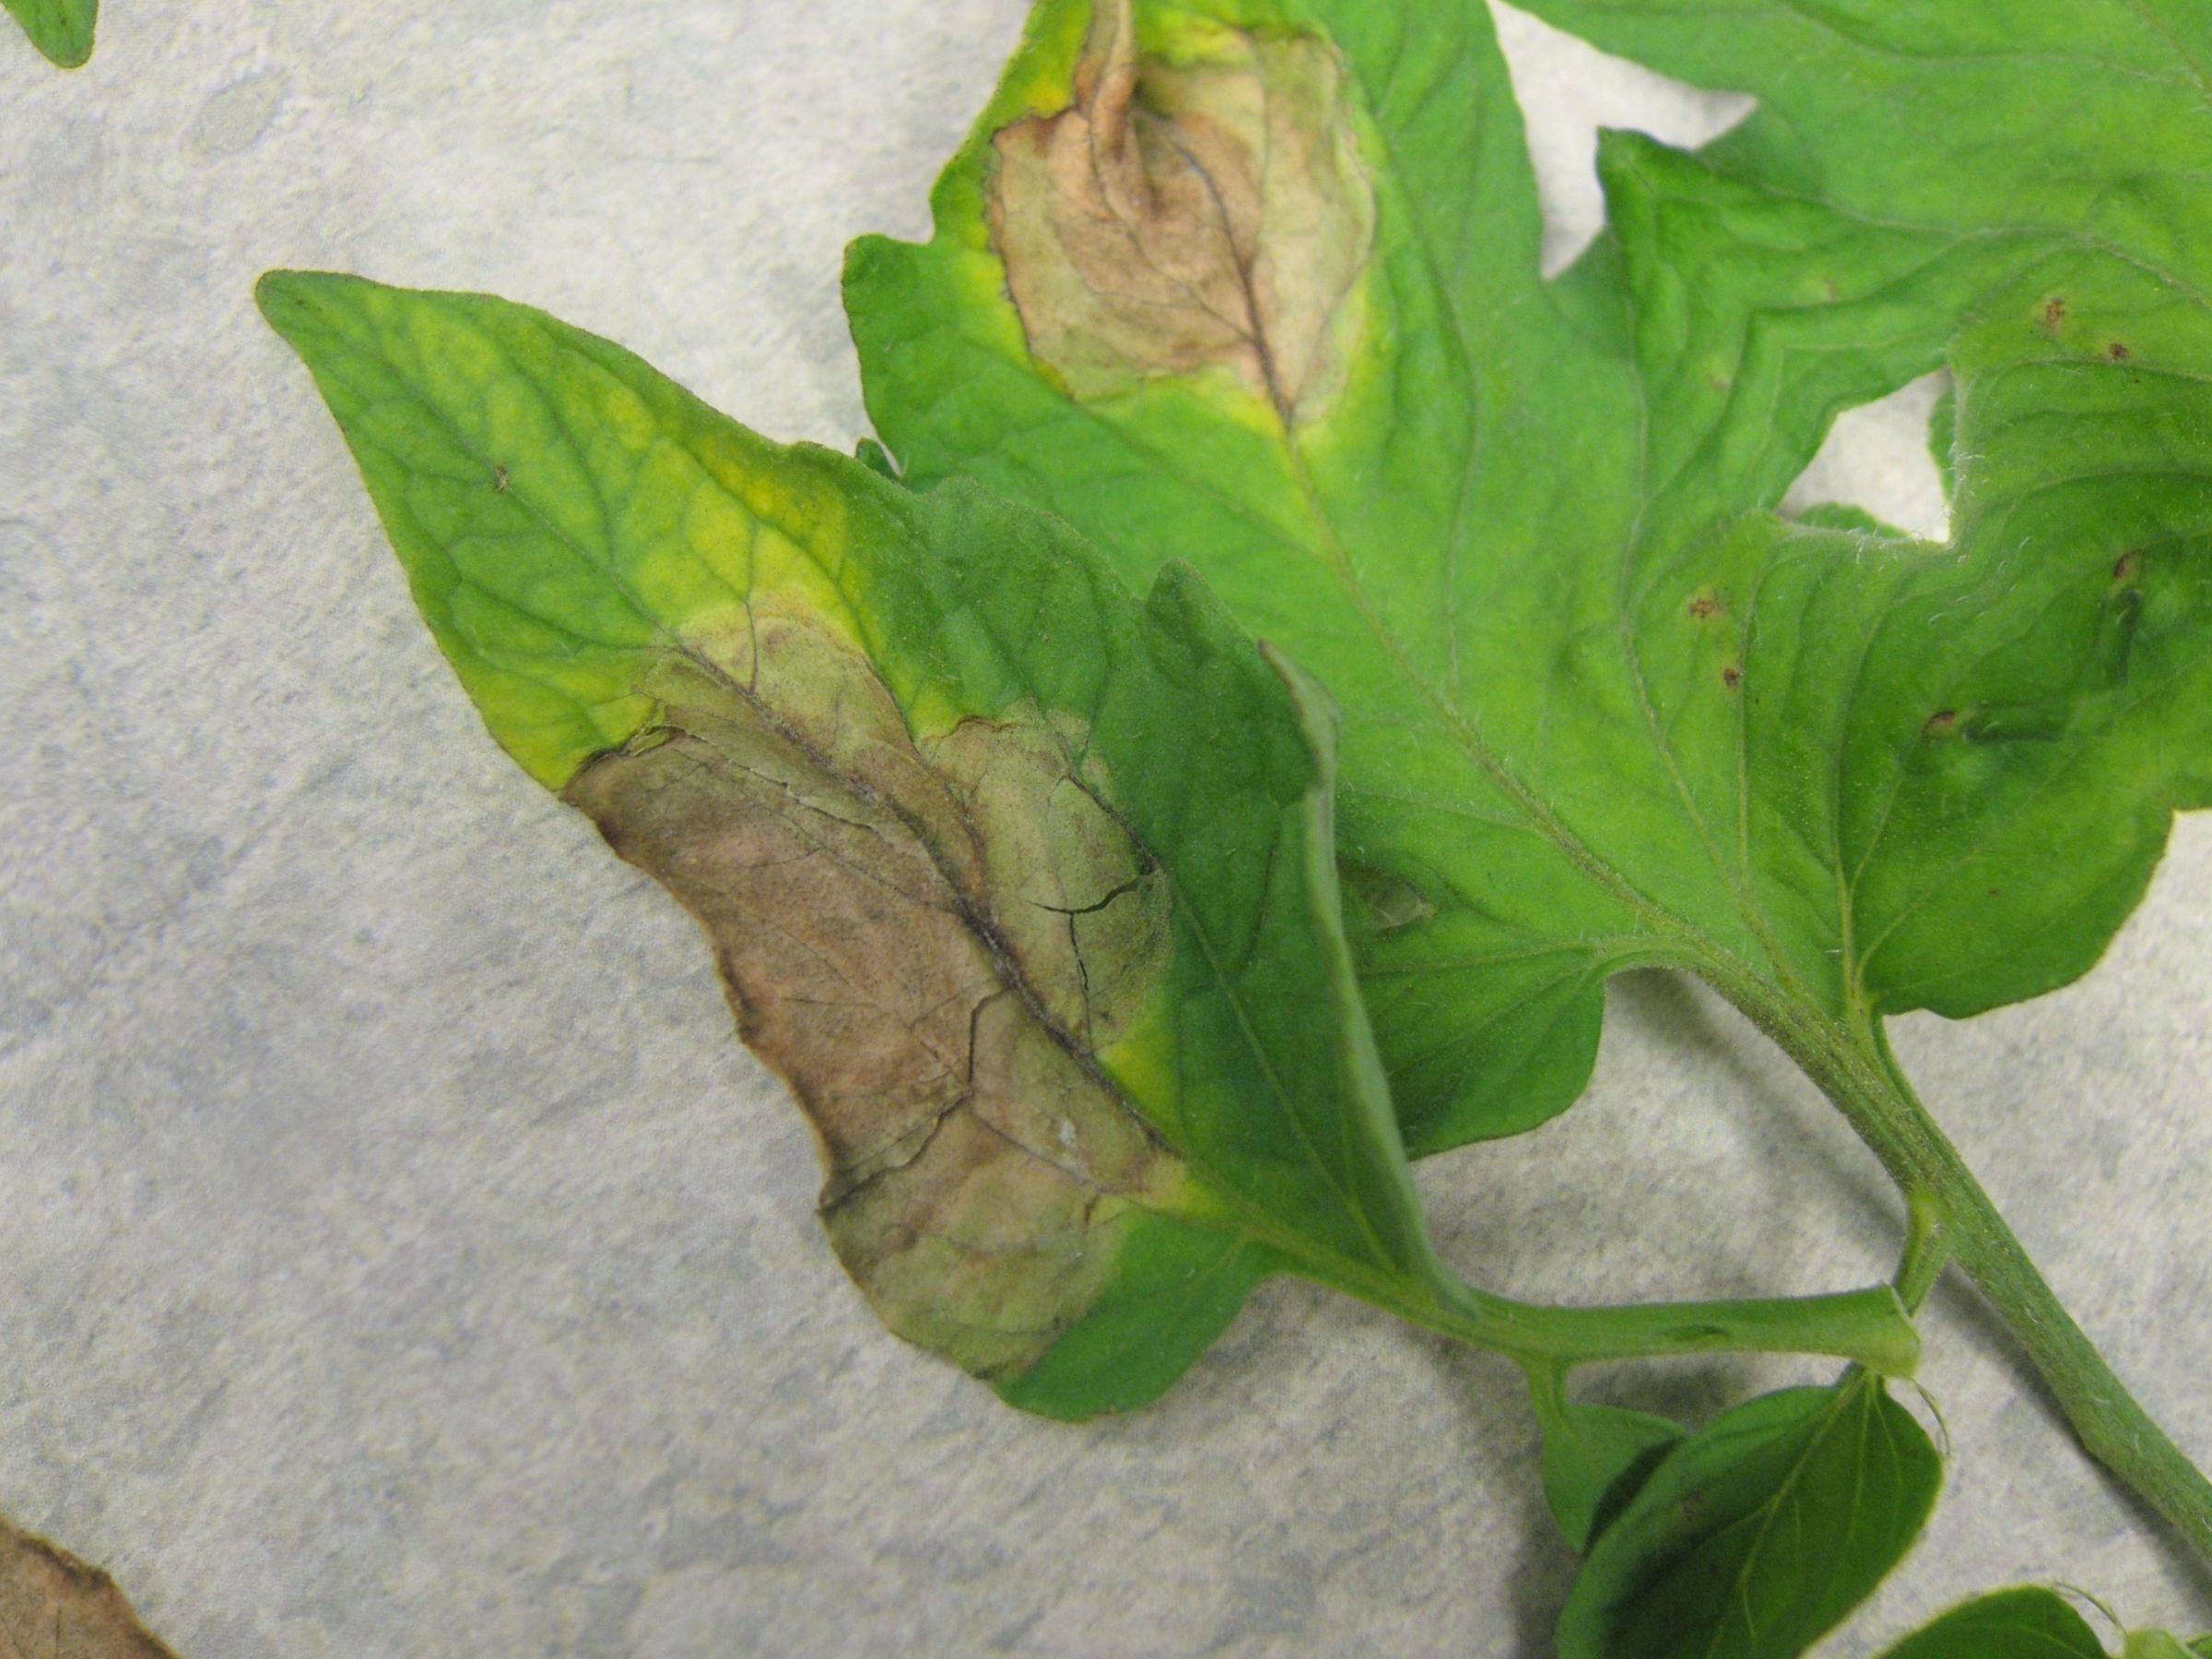Tomato leaf late blight: (59, 0, 1656, 1615), (577, 0, 2212, 1352)
